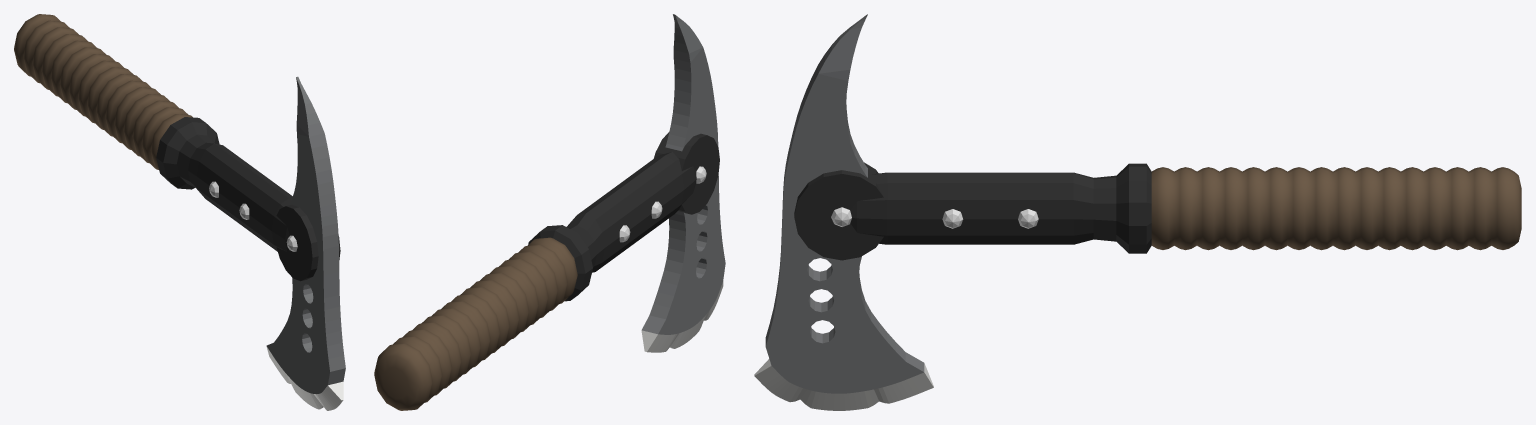
Rendered from Tomahawk.fbx.
3 renders of one model, left to right at view 1: azimuth 30°, elevation 25°; view 2: azimuth 150°, elevation 25°; view 3: azimuth 270°, elevation 25°, orthographic. The views are drawn at different scales.
Parts seen in each view (by area): view 1: Tomahawk; view 2: Tomahawk; view 3: Tomahawk.
Boxes of the visible parts, x1,y1,x2,y2 form: Tomahawk: [14, 14, 345, 410]; Tomahawk: [374, 14, 725, 410]; Tomahawk: [754, 14, 1521, 410].
Bounding box in the file's own units: 0.085 × 0.4491 × 0.7897.
